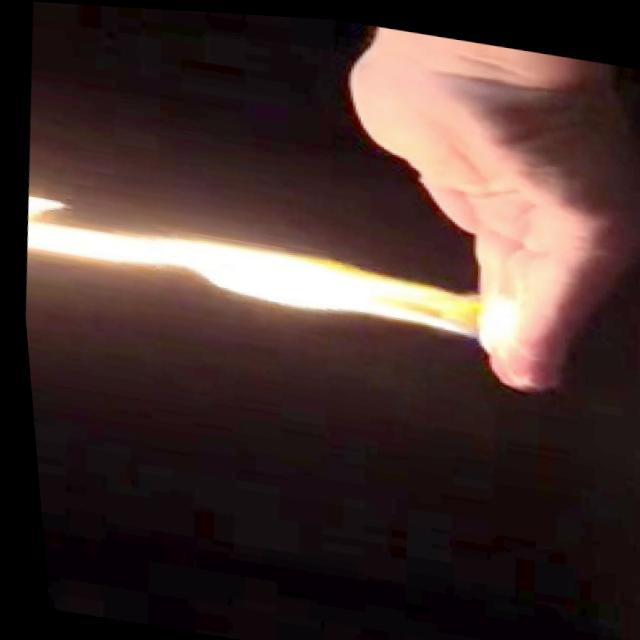Fire: (14, 175, 536, 355)
